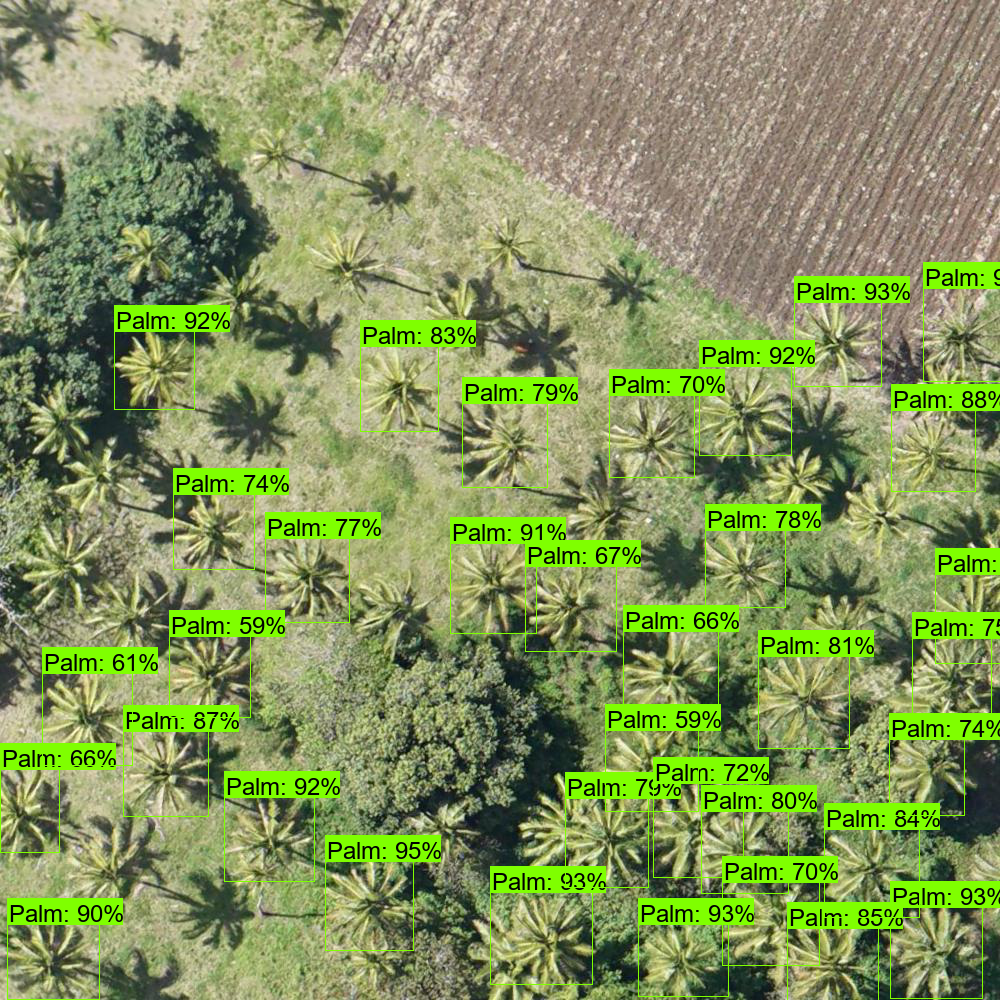Palm: (448, 535, 538, 632), (696, 369, 785, 463), (329, 858, 417, 952), (655, 778, 737, 876), (757, 657, 848, 744), (889, 911, 980, 997), (787, 298, 876, 385), (913, 292, 1000, 380), (126, 726, 216, 811), (353, 567, 435, 657), (782, 921, 875, 1000), (728, 881, 821, 959), (4, 912, 88, 998), (73, 818, 152, 909), (43, 674, 126, 760), (359, 350, 438, 440), (424, 278, 514, 356), (267, 535, 350, 619), (19, 524, 102, 607), (91, 576, 174, 659), (567, 798, 649, 881), (824, 828, 908, 908), (891, 736, 975, 815), (703, 526, 781, 611), (606, 397, 687, 478), (468, 398, 549, 479), (622, 633, 706, 710), (174, 638, 254, 716), (516, 894, 593, 974), (605, 730, 685, 807), (1, 768, 70, 856), (703, 813, 782, 889), (232, 799, 308, 878), (523, 785, 597, 866), (803, 597, 882, 671), (23, 383, 93, 466), (198, 264, 276, 338), (928, 577, 1000, 657), (116, 330, 190, 407), (62, 445, 138, 519), (909, 640, 986, 713), (533, 566, 604, 642), (173, 489, 246, 562), (309, 228, 381, 300), (643, 929, 719, 995), (409, 804, 481, 873), (893, 422, 962, 492), (565, 483, 636, 550), (766, 454, 832, 516), (912, 367, 978, 428), (117, 223, 179, 283), (845, 484, 906, 543), (3, 215, 55, 283), (472, 215, 533, 268), (246, 127, 299, 186), (346, 939, 397, 991)
